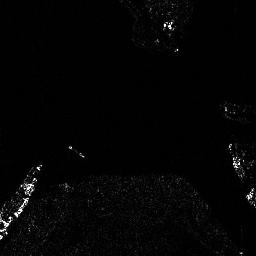ship: (227, 142, 246, 179)
